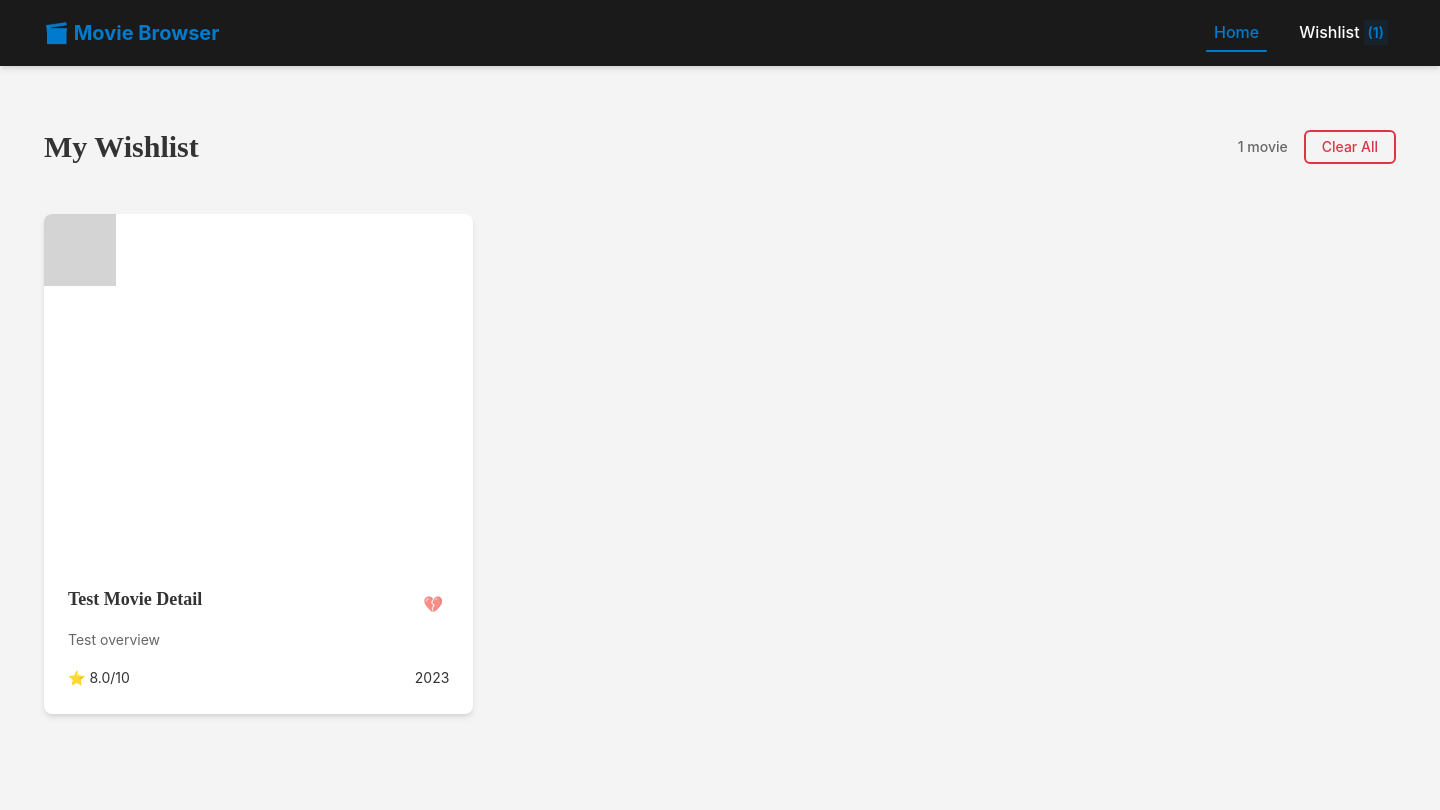
App Integration Tests › Full App Workflow › should handle wishlist remove and clear functionality
This screenshot has width=1440, height=810.
Check: the heading "My Wishlist" is shown, box [44,128,199,166]
Check: the text "1 movie" is shown, box [1238,136,1288,158]
# Test individual remove
What coordinates should you click on to do the following:
click the button "💔"
I would click on:
 (433, 604)
Its box is [417,588,449,621].
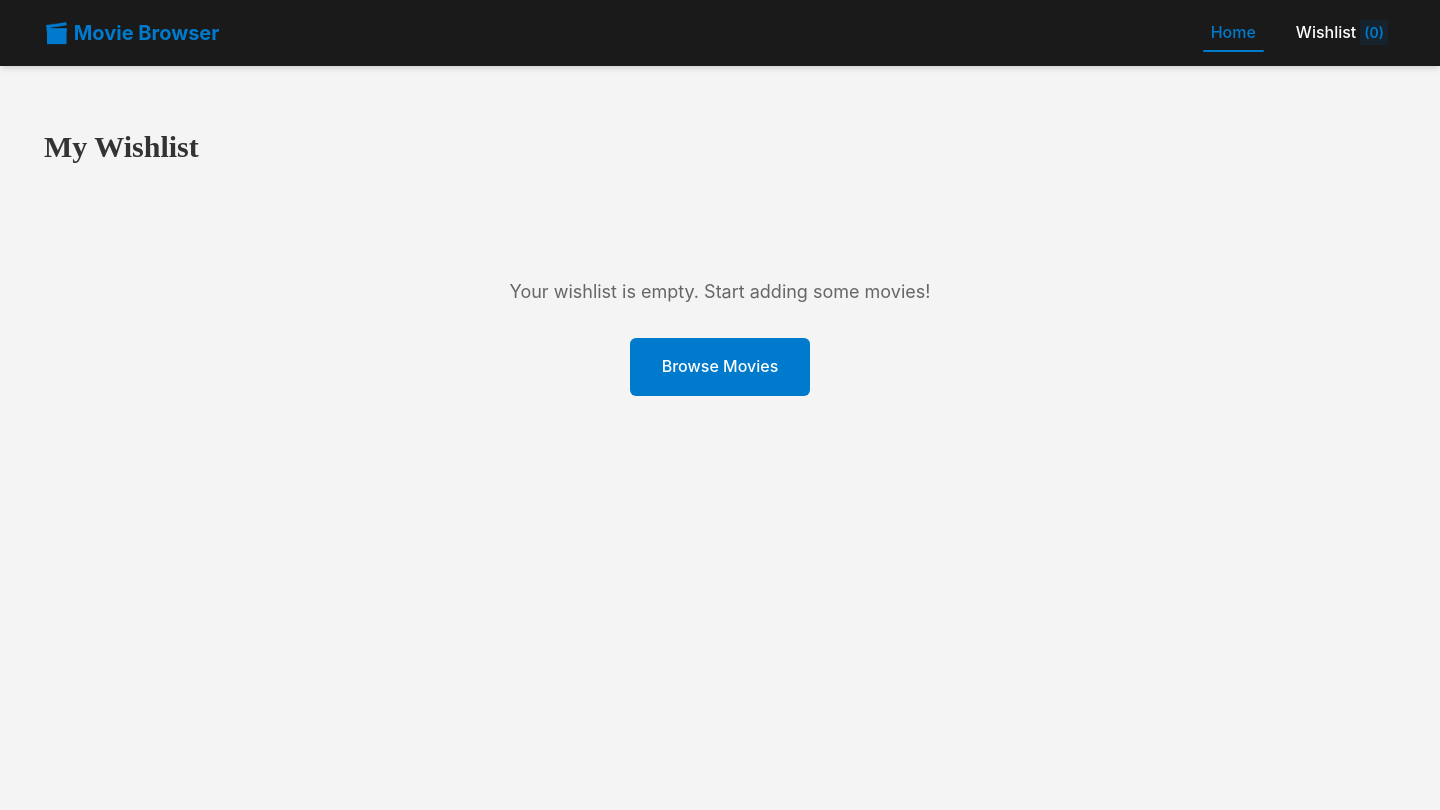
Check: the text "Wishlist" is shown, box [1296,22,1356,42]
Check: the text "Your wishlist is empty. Start adding some movies!" is shown, box [510,280,930,302]
Check: the button "Clear All" is gone
